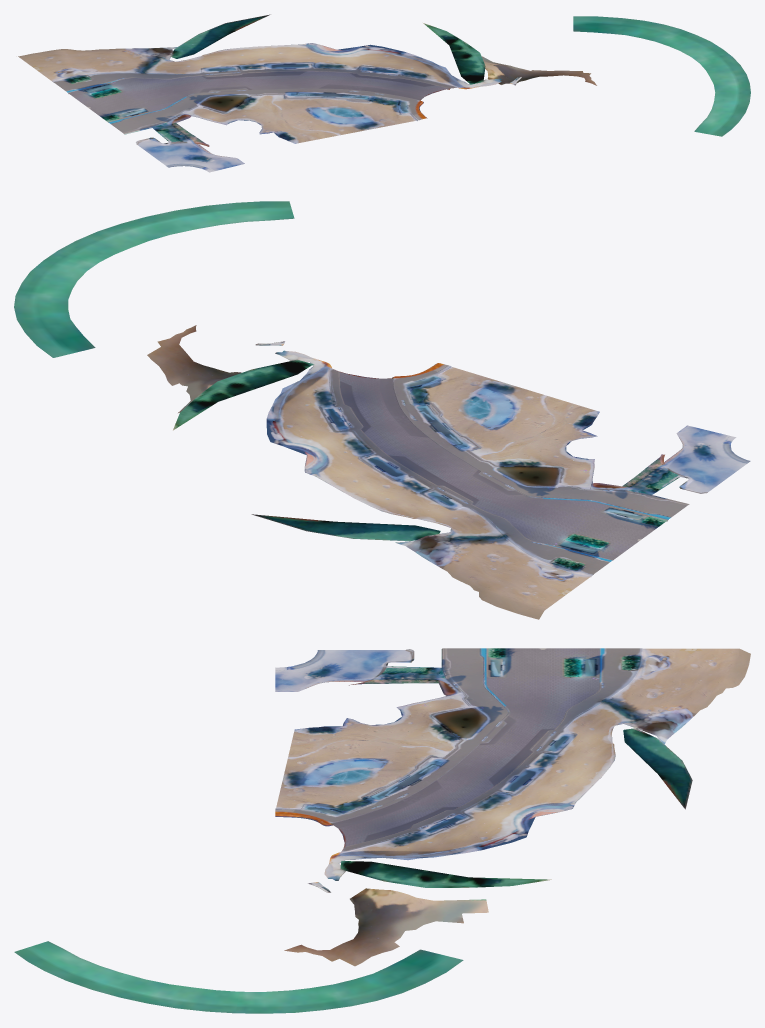
Rendered from pref_sm_beach_tech_hunt_bk_winter_Terrains_Part_03_lv0.fbx.
3 renders of one model, top to bottom at view 1: azimuth 30°, elevation 25°; view 2: azimuth 150°, elevation 25°; view 3: azimuth 270°, elevation 25°, orthographic. The views are drawn at different scales.
Parts seen in each view (by area): view 1: sm_beach_tech_hunt_bk_winter_Terrains_Part_03_lv0, sm_beach_tech_hunt_bk_winter_Terrains_Part_03a_lv0; view 2: sm_beach_tech_hunt_bk_winter_Terrains_Part_03_lv0, sm_beach_tech_hunt_bk_winter_Terrains_Part_03a_lv0; view 3: sm_beach_tech_hunt_bk_winter_Terrains_Part_03_lv0, sm_beach_tech_hunt_bk_winter_Terrains_Part_03a_lv0.
Part boxes in pixels (bbox=[...]): sm_beach_tech_hunt_bk_winter_Terrains_Part_03_lv0: bbox=[18, 14, 596, 172]; sm_beach_tech_hunt_bk_winter_Terrains_Part_03a_lv0: bbox=[573, 16, 750, 136]; sm_beach_tech_hunt_bk_winter_Terrains_Part_03_lv0: bbox=[147, 325, 750, 619]; sm_beach_tech_hunt_bk_winter_Terrains_Part_03a_lv0: bbox=[14, 201, 294, 357]; sm_beach_tech_hunt_bk_winter_Terrains_Part_03_lv0: bbox=[275, 648, 750, 966]; sm_beach_tech_hunt_bk_winter_Terrains_Part_03a_lv0: bbox=[14, 941, 463, 1013].
Size of the model in its own units: 106 by 4.07 by 90.51.
